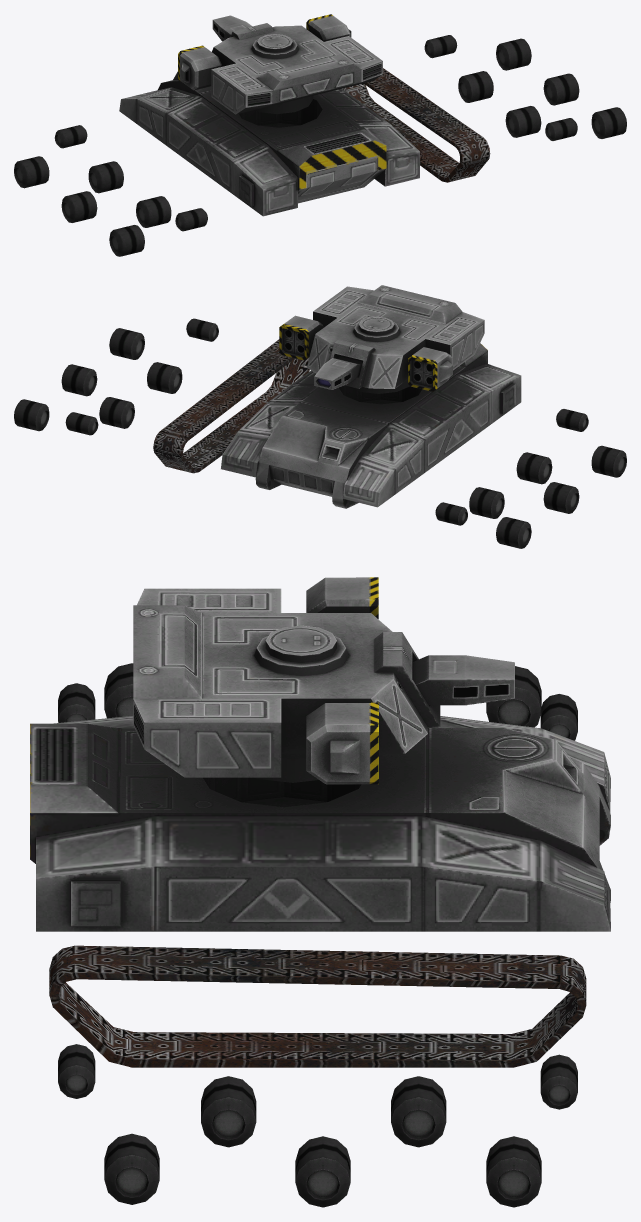
Rendered from Bulldog_ex 2.FBX.
The picture shows the model from 3 angles, top to bottom: view 1: azimuth 30°, elevation 25°; view 2: azimuth 150°, elevation 25°; view 3: azimuth 270°, elevation 25°; orthographic projection. The views are drawn at different scales.
Parts seen in each view (by area): view 1: body, turret, trackl, launcher_2, wheel4, wheel3, wheel13, wheel12, wheel9, wheel2, wheel5, wheel10 (+8 smaller); view 2: body, turret, trackl, launcher_2, launcher_03, mantlet_1, wheel4, wheel6, wheel9, wheel12, wheel3, wheel10 (+8 smaller); view 3: body, turret, trackl, launcher_03, mantlet_1, wheel2, wheel3, wheel4, wheel6, wheel5, launcher_2, wheel9 (+5 smaller).
Boxes of the visible parts, box(x1,y1,x2,y2) form: body: box(119, 71, 419, 216); turret: box(211, 23, 382, 114); trackl: box(342, 68, 490, 182); launcher_2: box(178, 45, 221, 90); wheel4: box(543, 73, 579, 105); wheel3: box(458, 71, 493, 102); wheel13: box(109, 225, 144, 256); wheel12: box(136, 196, 171, 227); wheel9: box(14, 156, 49, 188); wheel2: box(496, 38, 531, 70); wheel5: box(505, 106, 541, 137); wheel10: box(88, 161, 123, 193); body: box(221, 343, 521, 508); turret: box(307, 285, 484, 393); trackl: box(153, 339, 309, 473); launcher_2: box(408, 347, 452, 391); launcher_03: box(279, 315, 323, 360); mantlet_1: box(314, 358, 361, 389); wheel4: box(61, 364, 97, 396); wheel6: box(109, 328, 144, 359); wheel9: box(496, 517, 531, 548); wheel12: box(516, 452, 552, 484); wheel3: box(99, 397, 134, 428); wheel10: box(469, 487, 504, 518); body: box(30, 716, 610, 931); turret: box(133, 588, 440, 782); trackl: box(49, 945, 586, 1067); launcher_03: box(306, 702, 378, 784); mantlet_1: box(413, 655, 514, 705); wheel2: box(486, 1136, 541, 1207); wheel3: box(391, 1076, 446, 1147); wheel4: box(295, 1136, 350, 1207); wheel6: box(104, 1133, 159, 1204); wheel5: box(201, 1076, 256, 1147); launcher_2: box(306, 577, 378, 618); wheel9: box(486, 666, 541, 727).
Size of the model in its own units: 84.93 by 22.2 by 41.99.
Materials: 1 (1 with a texture image).
